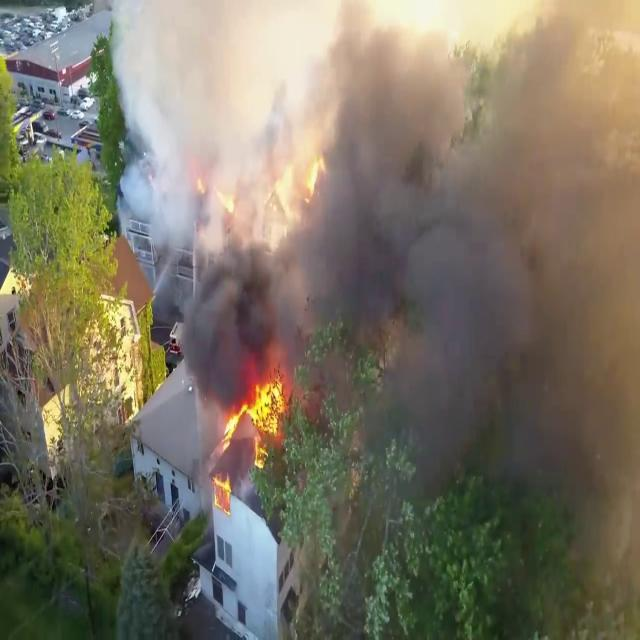Fire: (222, 366, 294, 460)
Smoke: (171, 0, 639, 397)
